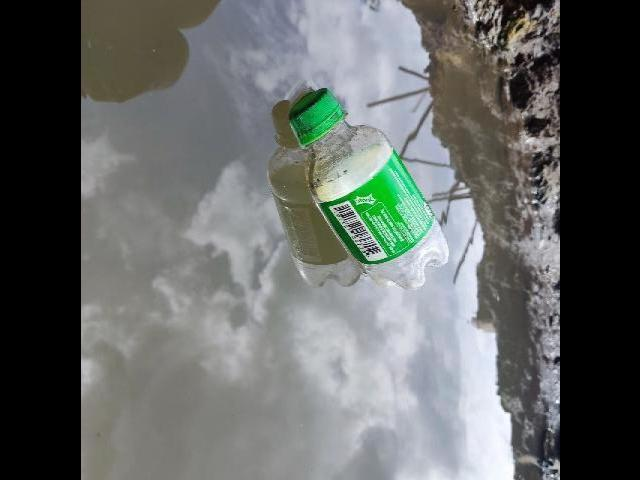Bottle: (283, 79, 455, 298)
